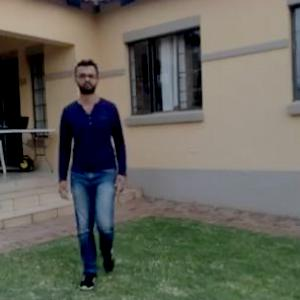follow: (59, 51, 131, 293)
